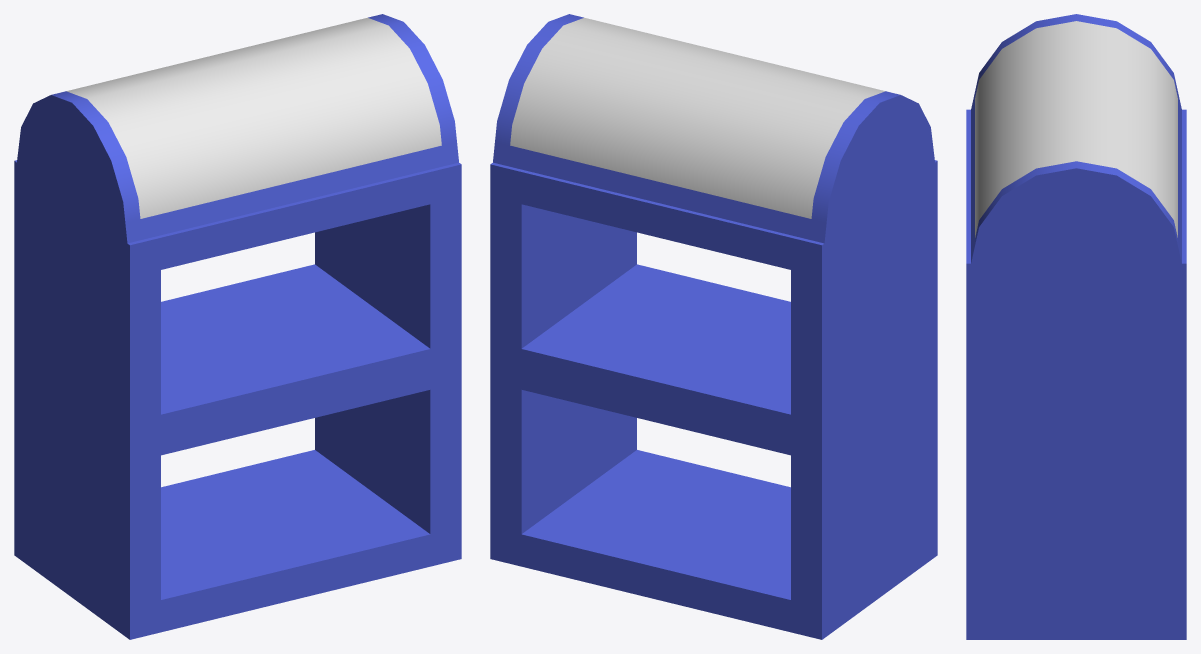
Rendered from Stand.fbx.
3 views of the same model, side by side, from view 1: azimuth 30°, elevation 25°; view 2: azimuth 150°, elevation 25°; view 3: azimuth 270°, elevation 25° (orthographic). The views are drawn at different scales.
Visible parts, largest first — view 1: Plane.003, Circle.031; view 2: Plane.003, Circle.031; view 3: Plane.003, Circle.031.
Boxes of the visible parts, x1,y1,x2,y2 form: Plane.003: (14, 160, 461, 639); Circle.031: (17, 14, 458, 243); Plane.003: (490, 160, 937, 639); Circle.031: (493, 14, 934, 243); Plane.003: (966, 109, 1186, 639); Circle.031: (971, 14, 1181, 263).
Bounding box in the file's own units: 278 × 396 × 168.
